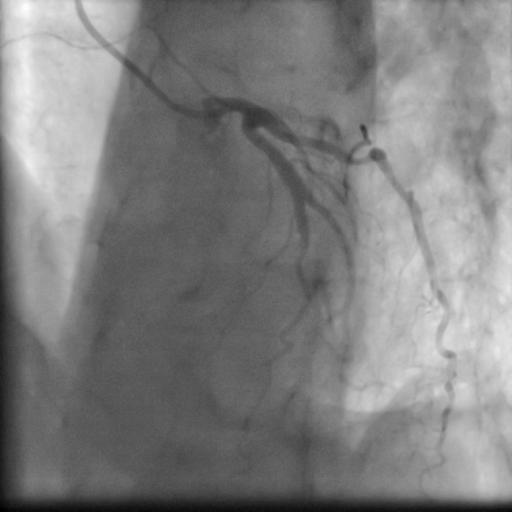Stenosis: (343, 144, 376, 167)
